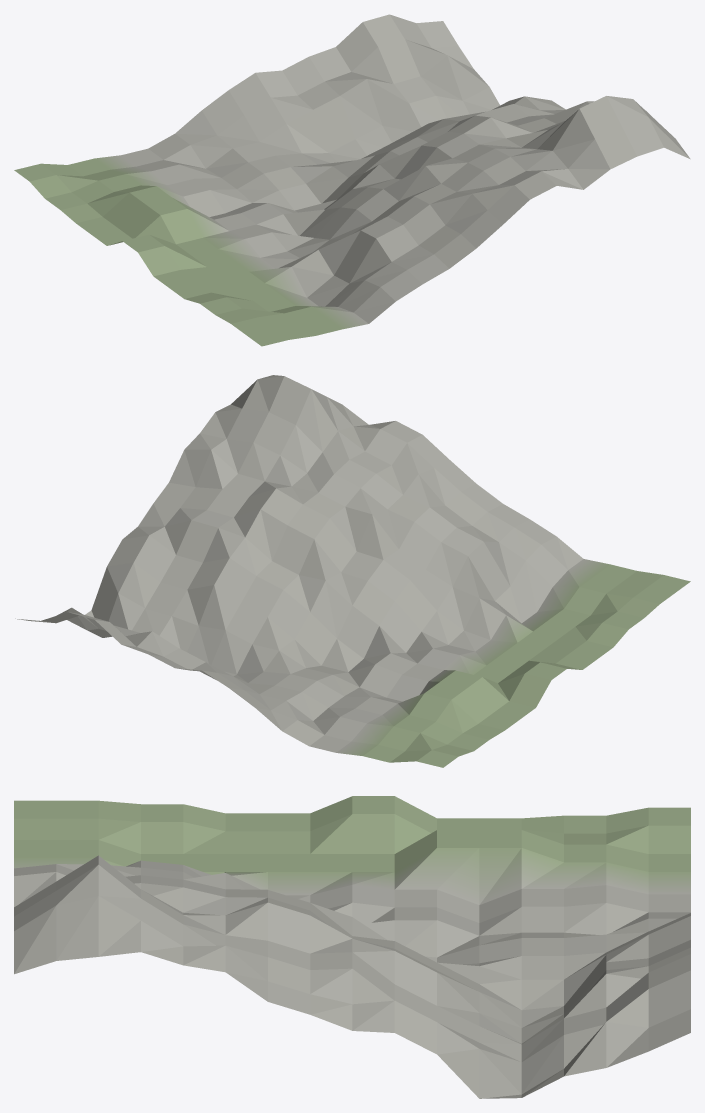
3 views of the same model, one above another, from view 1: azimuth 30°, elevation 25°; view 2: azimuth 150°, elevation 25°; view 3: azimuth 270°, elevation 25° (orthographic). The views are drawn at different scales.
Size of the model in its own units: 32 by 11.44 by 32.
